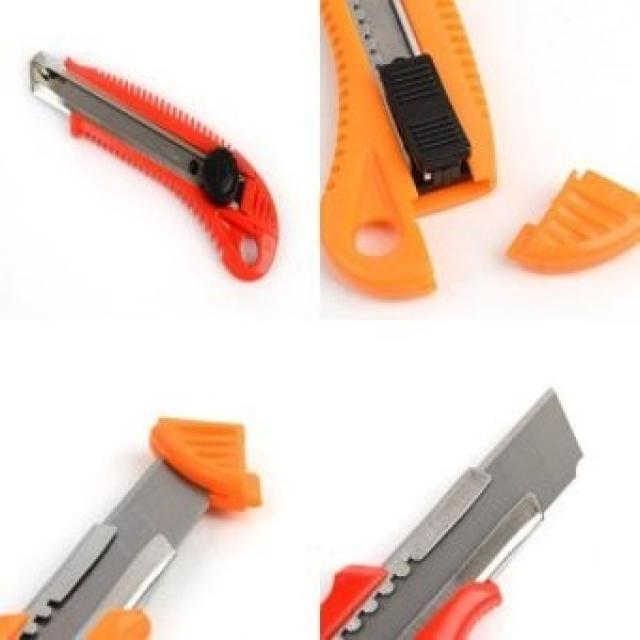cutter: (28, 40, 286, 294), (334, 380, 583, 640), (5, 400, 273, 640), (320, 0, 499, 317)
